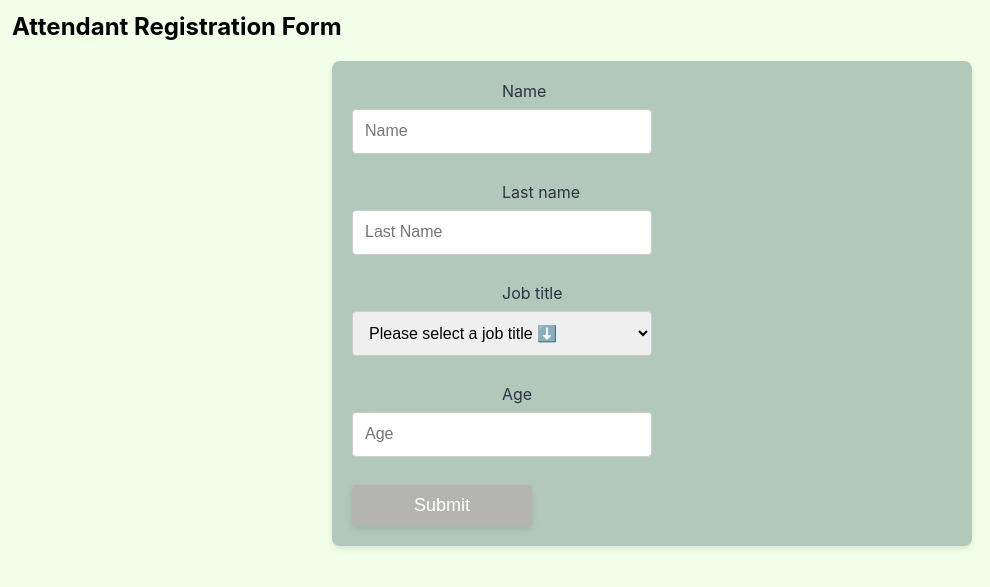
<AttendantForm /> › shows validation error for invalid name input
Type "John123" into the field with placeholder "Name" at (502, 131), box [352,109,652,154]
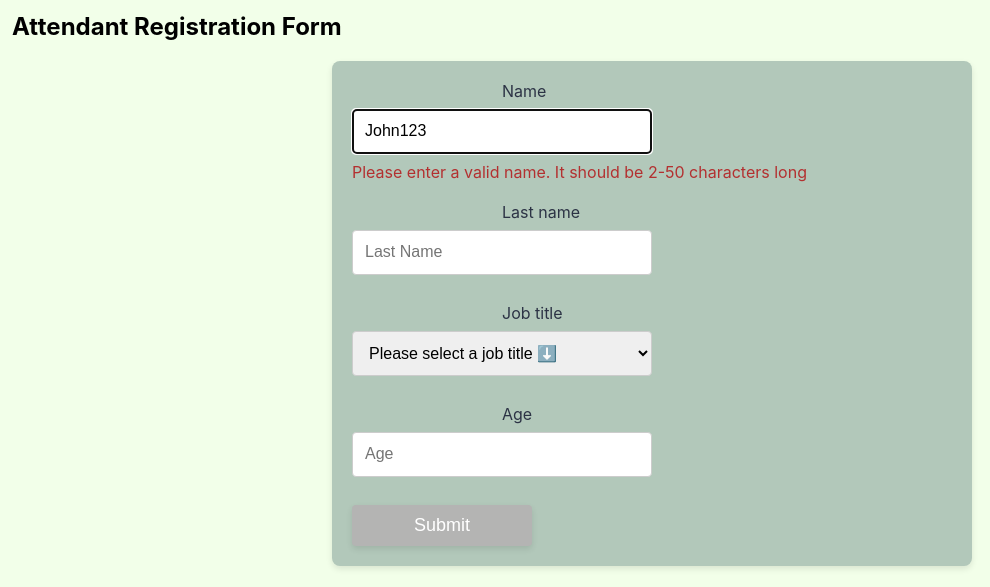
Expected: the button "Submit" is disabled, [352,505,532,546]
Expected: the text "Please enter a valid name. It should be 2-50 characters long" is shown, [352,162,807,182]
